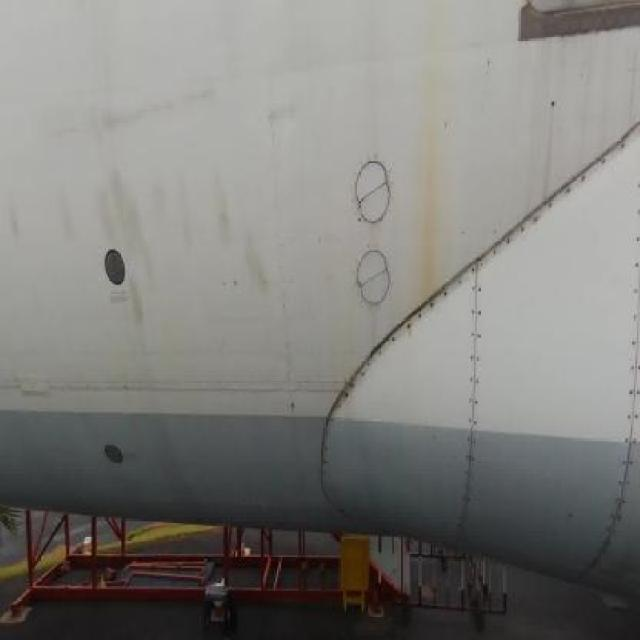Missing-Rivet: (490, 137, 632, 285), (362, 291, 462, 386), (466, 262, 486, 526), (620, 312, 640, 542)
Rust: (389, 61, 474, 330)
Scartch: (92, 153, 298, 335), (81, 82, 228, 146), (6, 169, 82, 277), (248, 65, 318, 149)
